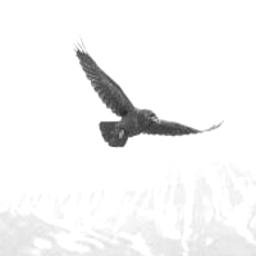Crow: (70, 28, 228, 148)
